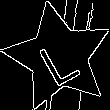L_NW: (32, 28, 85, 87)
